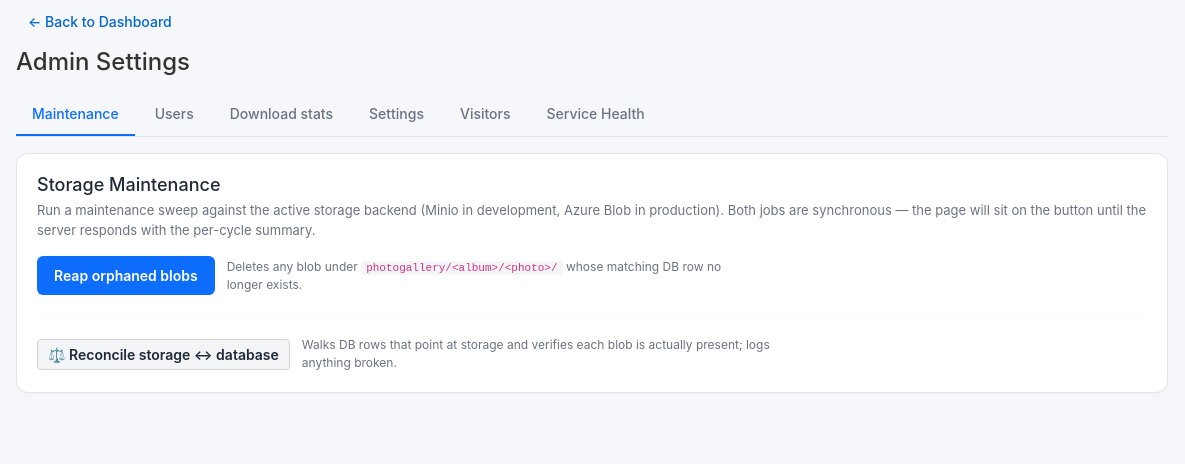
Test: AdminSettingsComponent › reap-orphans surfaces a friendly forbidden error for 403
Click the button with test id "admin-reap-orphans-button" at {"x": 126, "y": 276}, box left=37, top=256, right=215, bottom=295
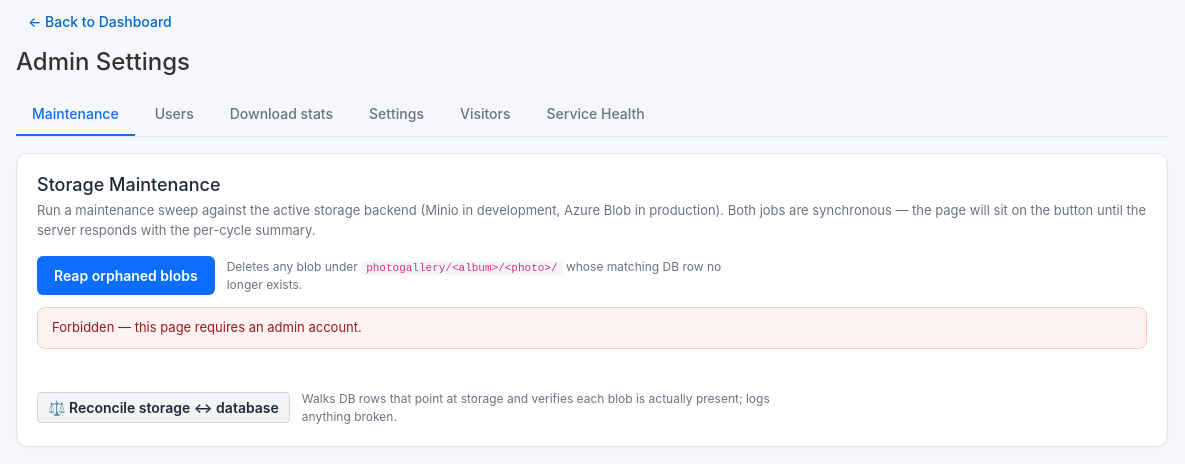
Result: the text "Forbidden — this page requires an admin account." is shown at left=37, top=307, right=1147, bottom=349
Result: the text with test id "admin-reap-orphans-error" shows "admin account" at left=52, top=319, right=362, bottom=335
